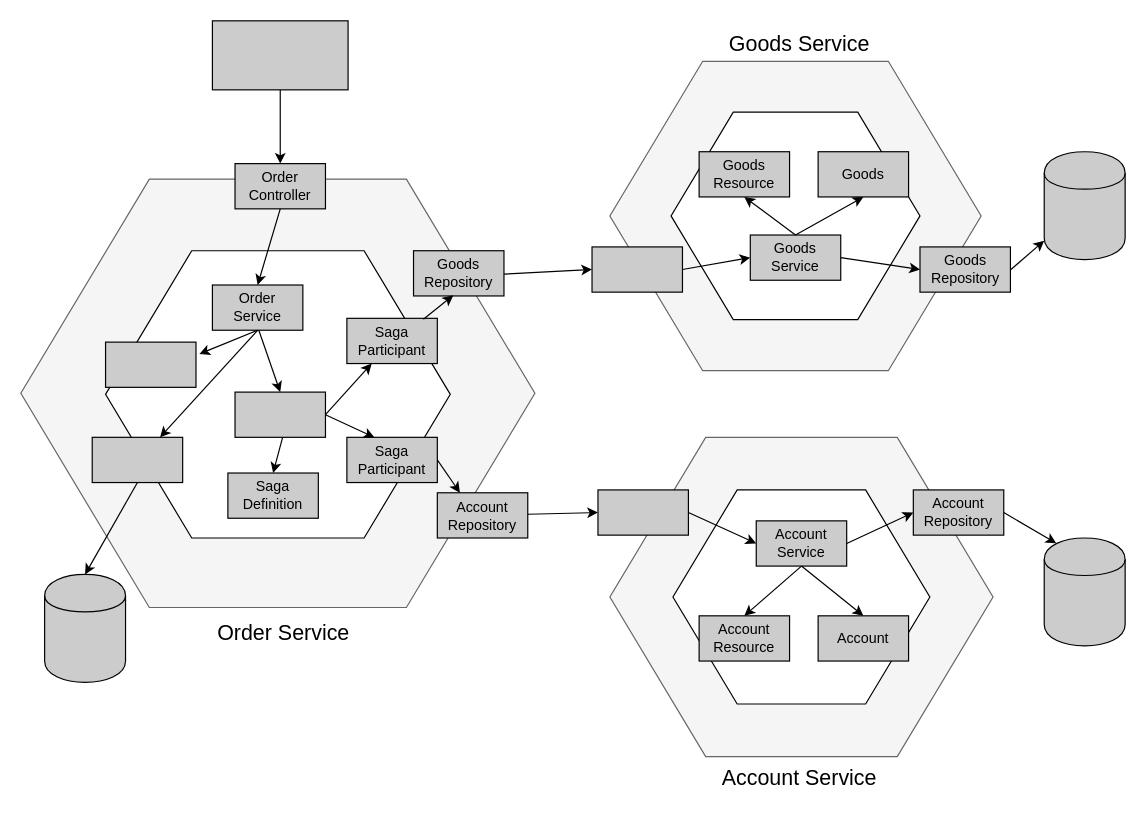
The diagram is 1146 pixels wide and 813 high, and some of its shapes have lost their labels. The shapes that lost their labels are listed below. From the top down, each one's box as (x1, y1, x2, y2) in pixels, then its label:
(211, 20, 348, 90): Browser
(591, 246, 682, 292): Goods Controller
(104, 341, 196, 387): Order
(234, 391, 325, 437): Saga Manager
(91, 436, 183, 483): Order Repository
(597, 489, 688, 535): Account Controller
